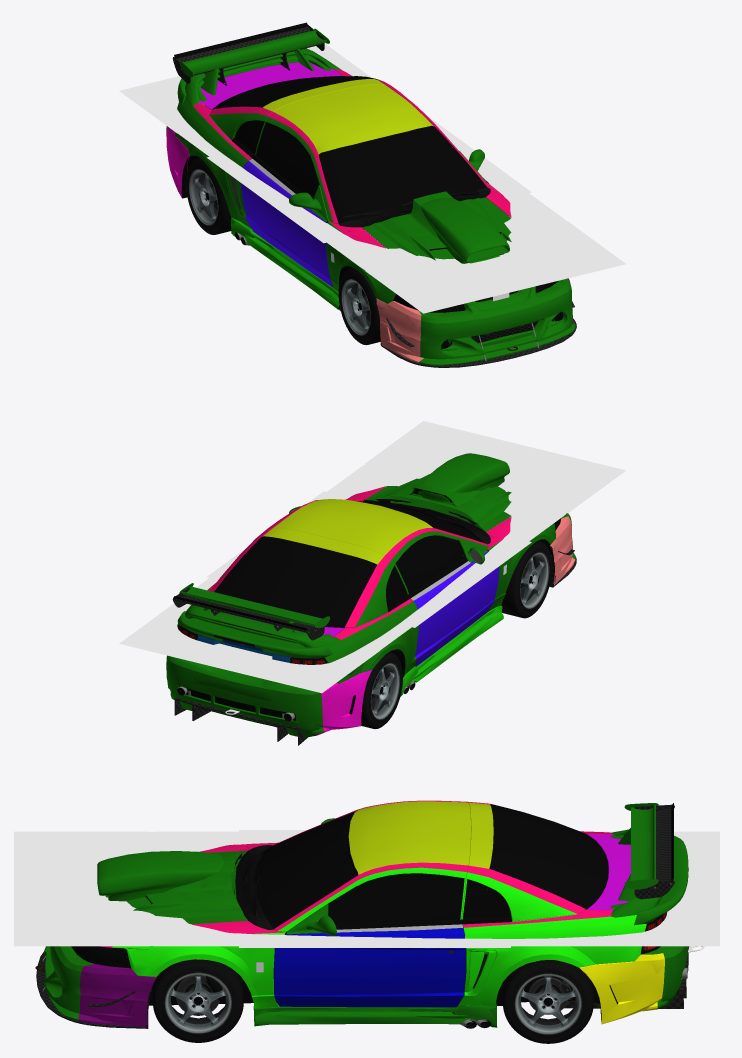
The model's file is cobra_r.fbx.
The picture shows the model from 3 angles, top to bottom: view 1: azimuth 30°, elevation 25°; view 2: azimuth 150°, elevation 25°; view 3: azimuth 270°, elevation 25°; orthographic projection. The views are drawn at different scales.
Parts seen in each view (by area): view 1: for_mustangcobrar_00_body_body_, neon (×4), shadow, for_mustangcobrar_00_glassF_window_, for_mustangcobrar_00_bumperFb_body_, for_mustangcobrar_00_hoodPSrace_body_2_, for_mustangcobrar_00_winga_body_2_, for_mustangcobrar_00_bumperFa_body_, for_mustangcobrar_00_glassRF_window_, for_mustangcobrar_00_wheel_tire_ (×2), for_mustangcobrar_00_body_black_glass_, for_mustangcobrar_00_trunk_body_ (+16 smaller); view 2: neon (×3), for_mustangcobrar_00_body_body_, for_mustangcobrar_00_glassR_window_, shadow, for_mustangcobrar_00_bumperRd_body_, for_mustangcobrar_00_hoodPSrace_body_2_, for_mustangcobrar_00_wheel_tire_ (×2), for_mustangcobrar_00_glassRF_window_, for_mustangcobrar_00_wingd_body_, for_mustangcobrar_00_bumperRb_body_, for_mustangcobrar_00_winga_body_2_, for_mustangcobrar_00_wingb_body_ (+16 smaller); view 3: for_mustangcobrar_00_body_body_, neon (×4), shadow, for_mustangcobrar_00_glassR_window_, for_mustangcobrar_00_wheel_tire_ (×2), for_mustangcobrar_00_glassF_window_, for_mustangcobrar_00_glassLF_window_, for_mustangcobrar_00_hoodPSrace_body_2_, for_mustangcobrar_00_bumperFb_body_, for_mustangcobrar_00_bumperRb_body_, for_mustangcobrar_00_wheel_rim_ (×2), for_mustangcobrar_00_body_black_glass_ (+26 smaller).
Boxes of the visible parts, x1,y1,x2,y2 form: for_mustangcobrar_00_body_body_: [175, 69, 511, 303]; neon (×4): [119, 43, 626, 313]; shadow: [164, 74, 577, 289]; for_mustangcobrar_00_glassF_window_: [325, 131, 477, 215]; for_mustangcobrar_00_bumperFb_body_: [377, 280, 572, 359]; for_mustangcobrar_00_hoodPSrace_body_2_: [421, 197, 509, 263]; for_mustangcobrar_00_winga_body_2_: [179, 28, 329, 95]; for_mustangcobrar_00_bumperFa_body_: [382, 278, 575, 365]; for_mustangcobrar_00_glassRF_window_: [256, 122, 319, 198]; for_mustangcobrar_00_wheel_tire_ (×2): [186, 158, 380, 345]; for_mustangcobrar_00_body_black_glass_: [215, 77, 485, 222]; for_mustangcobrar_00_trunk_body_: [199, 62, 342, 109]; neon (×3): [119, 421, 625, 693]; for_mustangcobrar_00_body_body_: [177, 486, 555, 683]; for_mustangcobrar_00_glassR_window_: [219, 540, 370, 621]; shadow: [165, 445, 575, 670]; for_mustangcobrar_00_bumperRd_body_: [166, 655, 370, 737]; for_mustangcobrar_00_hoodPSrace_body_2_: [418, 453, 509, 502]; for_mustangcobrar_00_wheel_tire_ (×2): [361, 541, 552, 728]; for_mustangcobrar_00_glassRF_window_: [395, 535, 463, 593]; for_mustangcobrar_00_wingd_body_: [177, 611, 333, 658]; for_mustangcobrar_00_bumperRb_body_: [166, 669, 371, 729]; for_mustangcobrar_00_winga_body_2_: [179, 583, 329, 632]; for_mustangcobrar_00_wingb_body_: [185, 605, 340, 647]; for_mustangcobrar_00_body_body_: [99, 800, 654, 1008]; neon (×4): [14, 830, 719, 947]; shadow: [53, 831, 688, 946]; for_mustangcobrar_00_glassR_window_: [496, 806, 598, 903]; for_mustangcobrar_00_wheel_tire_ (×2): [153, 959, 593, 1043]; for_mustangcobrar_00_glassF_window_: [261, 814, 350, 920]; for_mustangcobrar_00_glassLF_window_: [330, 873, 463, 924]; for_mustangcobrar_00_hoodPSrace_body_2_: [97, 851, 223, 901]; for_mustangcobrar_00_bumperFb_body_: [44, 946, 152, 1023]; for_mustangcobrar_00_bumperRb_body_: [580, 952, 671, 1024]; for_mustangcobrar_00_wheel_rim_ (×2): [164, 972, 577, 1033]; for_mustangcobrar_00_body_black_glass_: [255, 805, 604, 927].
Size of the model in its own units: 4 by 1.36 by 5.25.
